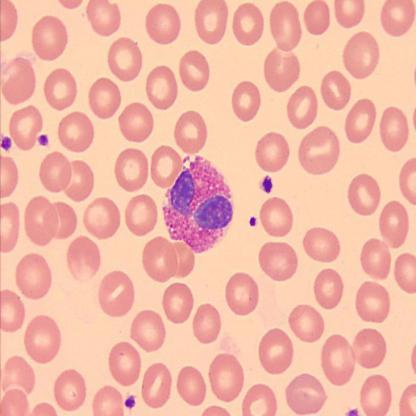Eosinophil: (164, 155, 235, 253)
